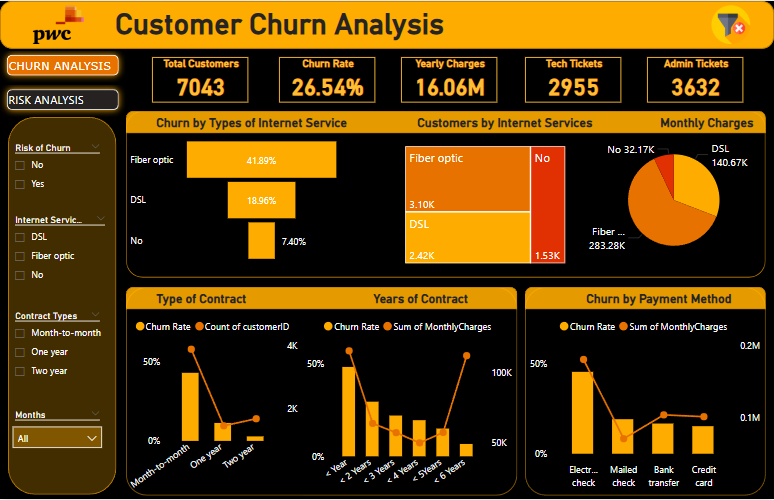

The dashboard page shown, as its layout file describes it:
{"tool":"powerbi","page":{"name":"RISK ANALYSIS","canvas":[900,580],"ordinal":1},"visuals":[{"type":"donutChart","fields":{"Y":["01 Churn-Dataset.No of seniorcitizen","01 Churn-Dataset.No of Partners","01 Churn-Dataset.No of Dependents"]},"box":[940,428.6,254.3,145.7],"z":0},{"type":"pageNavigator","box":[0,55,146.2,80],"z":1000},{"type":"card","title":"Total Customers","fields":{"Values":["CountNonNull(01 Churn-Dataset.customerID)"]},"box":[176.7,65.6,112.2,53.3],"z":2000},{"type":"shape","box":[0,0,900,55.6],"z":3000},{"type":"card","title":"Churn Rate","fields":{"Values":["01 Churn-Dataset.Churn Rate"]},"box":[324.4,65.6,112.2,53.3],"z":4000},{"type":"card","title":"Yearly Charges","fields":{"Values":["Sum(01 Churn-Dataset.TotalCharges)"]},"box":[466.7,65.6,112.2,53.3],"z":5000},{"type":"card","title":"Tech Tickets","fields":{"Values":["01 Churn-Dataset.TechTickets"]},"box":[610,65.6,112.2,53.3],"z":6000},{"type":"card","title":"Admin Tickets","fields":{"Values":["01 Churn-Dataset.AdminTickets"]},"box":[752.2,65.6,112.2,53.3],"z":7000},{"type":"shape","box":[146.2,127.5,743.8,193.8],"z":8000},{"type":"shape","box":[146.2,332.5,455,242.5],"z":9000},{"type":"shape","box":[610,332.5,280,242.5],"z":10000},{"type":"lineClusteredColumnComboChart","title":"Types of Contract","fields":{"Category":["01 Churn-Dataset.Contract"],"Y":["01 Churn-Dataset.Churn Rate"],"Y2":["CountNonNull(01 Churn-Dataset.customerID)"]},"box":[146.2,358.8,205,221.2],"z":11000},{"type":"lineClusteredColumnComboChart","title":"Types of Contract","fields":{"Y":["01 Churn-Dataset.Churn Rate"],"Y2":["Sum(01 Churn-Dataset.MonthlyCharges)"],"Category":["01 Churn-Dataset.Loyalty"]},"box":[351.2,358.8,250,216.2],"z":12000},{"type":"lineClusteredColumnComboChart","title":"Types of Contract","fields":{"Y":["01 Churn-Dataset.Churn Rate"],"Y2":["Sum(01 Churn-Dataset.MonthlyCharges)"],"Category":["01 Churn-Dataset.PaymentMethod"]},"box":[610,358.8,280,216.2],"z":13000},{"type":"treemap","fields":{"Group":["01 Churn-Dataset.InternetService"],"Values":["CountNonNull(01 Churn-Dataset.customerID)"]},"box":[466.2,163.8,196.2,146.2],"z":14000},{"type":"pieChart","fields":{"Category":["01 Churn-Dataset.InternetService"],"Y":["Sum(01 Churn-Dataset.MonthlyCharges)"]},"box":[676.2,153.8,213.8,156.2],"z":15000},{"type":"funnel","fields":{"Category":["01 Churn-Dataset.InternetService"],"Y":["01 Churn-Dataset.Churn Rate"]},"box":[146.2,153.8,255,156.2],"z":16000},{"type":"shape","box":[8.8,135,126.2,440],"z":17000},{"type":"slicer","fields":{"Values":["01 Churn-Dataset.Churn"]},"box":[5,158.8,123.8,73.8],"z":18000},{"type":"slicer","fields":{"Values":["01 Churn-Dataset.InternetService"]},"box":[5,242.5,130,93.8],"z":19000},{"type":"slicer","fields":{"Values":["01 Churn-Dataset.Contract"]},"box":[5,355,123.8,96.2],"z":20000},{"type":"shape","box":[146.2,127.5,743.8,26.2],"z":21000},{"type":"shape","box":[146.2,332.5,455,26.2],"z":22000},{"type":"shape","box":[610,332.5,280,26.2],"z":23000},{"type":"textbox","box":[128.8,2.5,492.5,72.5],"z":24000},{"type":"image","box":[8.8,0,117.5,55],"z":25000},{"type":"textbox","box":[176.2,127.5,241.2,35],"z":26000},{"type":"textbox","box":[480,127.5,251.2,41.2],"z":27000},{"type":"textbox","box":[762.5,127.5,137.5,35],"z":28000},{"type":"textbox","box":[176.2,332.5,165,37.5],"z":29000},{"type":"textbox","box":[428.8,332.5,158.8,35],"z":30000},{"type":"textbox","box":[676.2,332.5,206.2,41.2],"z":31000},{"type":"slicer","fields":{"Values":["01 Churn-Dataset.tenure"]},"box":[5,470,123.8,96.2],"z":32000},{"type":"image","box":[808.8,0,81.2,55],"z":32502}]}

Visuals, with their boxes in screenshot pixels (x1, y1, x2, y2), scaled from the page's 900x580 canvas onto the 774x500 screenshot:
pageNavigator: detection(0, 47, 126, 116)
"Total Customers" card: detection(152, 57, 248, 102)
shape: detection(0, 0, 773, 48)
"Churn Rate" card: detection(279, 57, 375, 102)
"Yearly Charges" card: detection(401, 57, 498, 102)
"Tech Tickets" card: detection(525, 57, 621, 102)
"Admin Tickets" card: detection(647, 57, 743, 102)
shape: detection(126, 110, 765, 277)
shape: detection(126, 287, 517, 496)
shape: detection(525, 287, 765, 496)
"Types of Contract" lineClusteredColumnComboChart: detection(126, 309, 302, 499)
"Types of Contract" lineClusteredColumnComboChart: detection(302, 309, 517, 496)
"Types of Contract" lineClusteredColumnComboChart: detection(525, 309, 765, 496)
treemap - 01 Churn-Dataset.InternetService x CountNonNull(01 Churn-Dataset.customerID): detection(401, 141, 570, 267)
pieChart - 01 Churn-Dataset.InternetService x Sum(01 Churn-Dataset.MonthlyCharges): detection(582, 133, 765, 267)
funnel - 01 Churn-Dataset.InternetService x 01 Churn-Dataset.Churn Rate: detection(126, 133, 345, 267)
shape: detection(8, 116, 116, 496)
slicer - 01 Churn-Dataset.Churn: detection(4, 137, 111, 201)
slicer - 01 Churn-Dataset.InternetService: detection(4, 209, 116, 290)
slicer - 01 Churn-Dataset.Contract: detection(4, 306, 111, 389)
shape: detection(126, 110, 765, 132)
shape: detection(126, 287, 517, 309)
shape: detection(525, 287, 765, 309)
textbox: detection(111, 2, 534, 65)
image: detection(8, 0, 109, 47)
textbox: detection(152, 110, 359, 140)
textbox: detection(413, 110, 629, 145)
textbox: detection(656, 110, 773, 140)
textbox: detection(152, 287, 293, 319)
textbox: detection(369, 287, 505, 317)
textbox: detection(582, 287, 759, 322)
slicer - 01 Churn-Dataset.tenure: detection(4, 405, 111, 488)
image: detection(696, 0, 765, 47)
